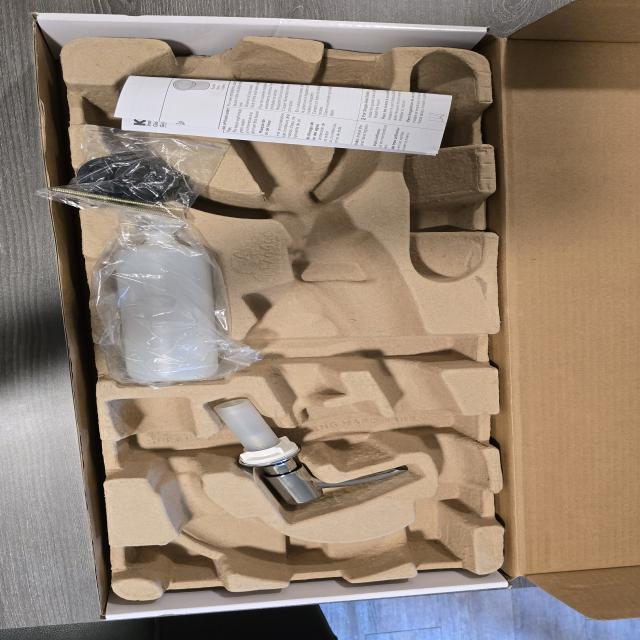1m: (106, 38, 479, 580)
2: (213, 399, 406, 507)
3o: (114, 211, 222, 383)
4m: (399, 49, 484, 282)
5m: (315, 67, 388, 133)
6m: (78, 58, 185, 143)
7: (32, 123, 231, 239)
8: (111, 74, 454, 157)
